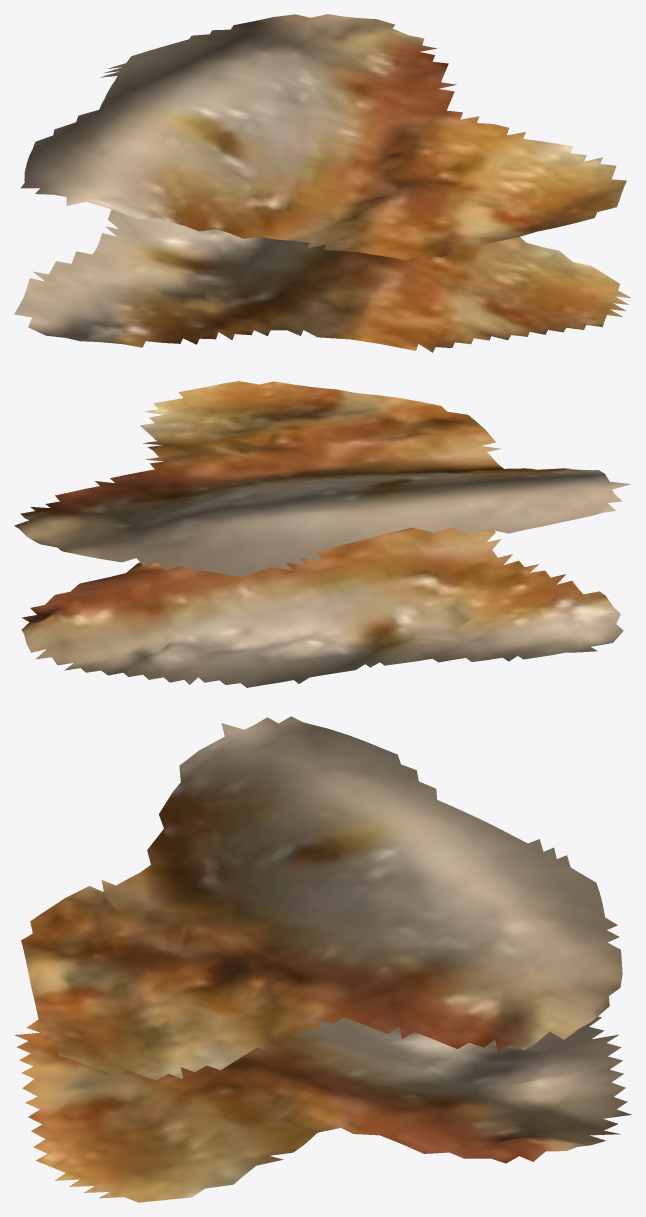
Rendered from chicken-4.glb.
3 renders of one model, top to bottom at view 1: azimuth 30°, elevation 25°; view 2: azimuth 150°, elevation 25°; view 3: azimuth 270°, elevation 25°, orthographic. The views are drawn at different scales.
Parts seen in each view (by area): view 1: fetta di pollo_Default OBJ_0; view 2: fetta di pollo_Default OBJ_0; view 3: fetta di pollo_Default OBJ_0.
Boxes of the visible parts, x1,y1,x2,y2 form: fetta di pollo_Default OBJ_0: (14,14,631,352); fetta di pollo_Default OBJ_0: (14,381,631,687); fetta di pollo_Default OBJ_0: (14,716,631,1202).
Bounding box in the file's own units: 0.03 × 0.00946 × 0.0268.
Materials: 1 (1 with a texture image).
